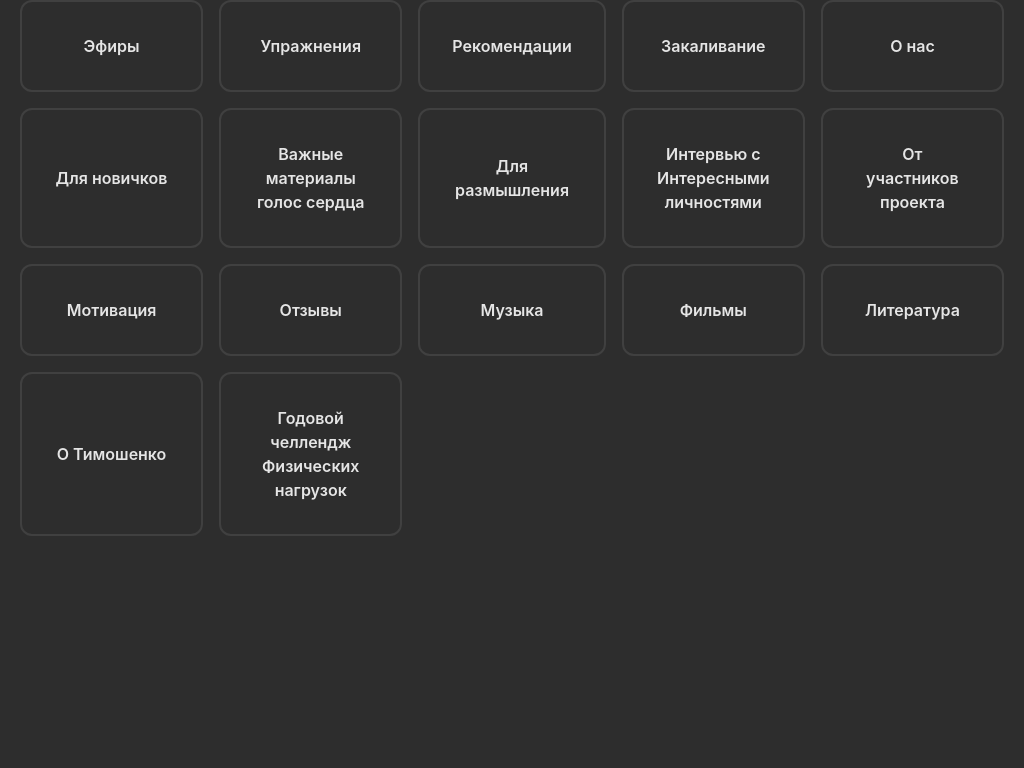
Dashboard › opens dropdown on menu hover with items
The image size is (1024, 768).
Check: the text "Эфиры" is shown, box [84,36,140,56]
Hover over the text "Эфиры".
mouse_move(112, 46)  # box [20,0,203,92]
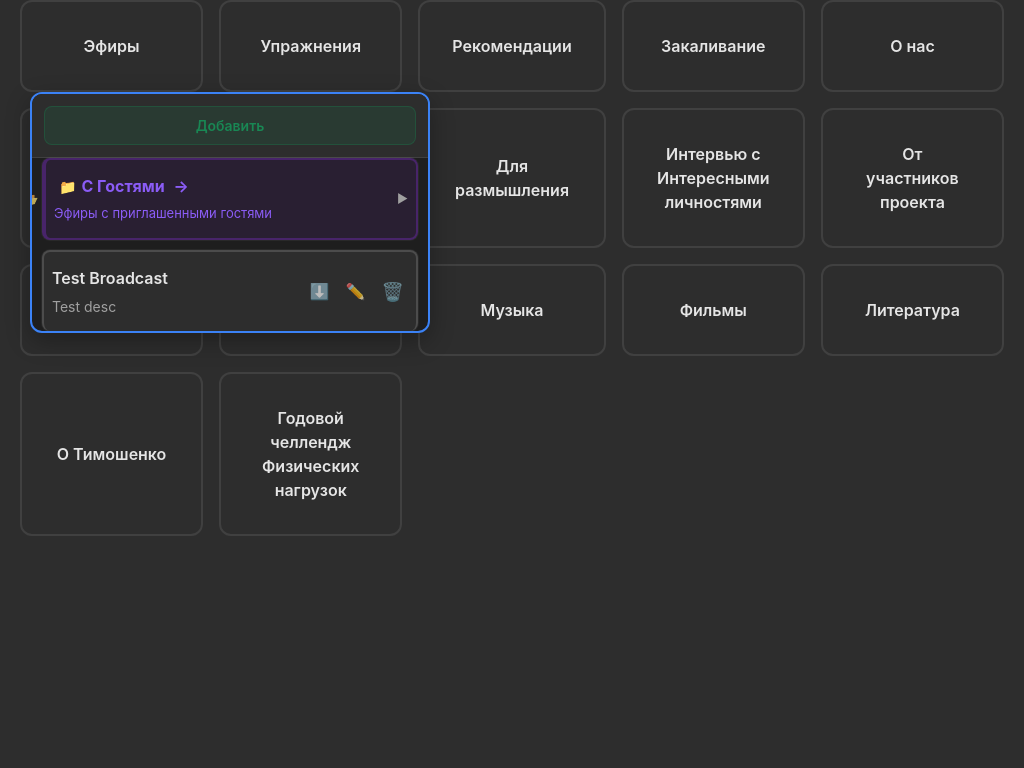
Check: the text "Test Broadcast" is shown, box [52,266,168,290]
Check: the text "Test desc" is shown, box [52,298,116,314]
